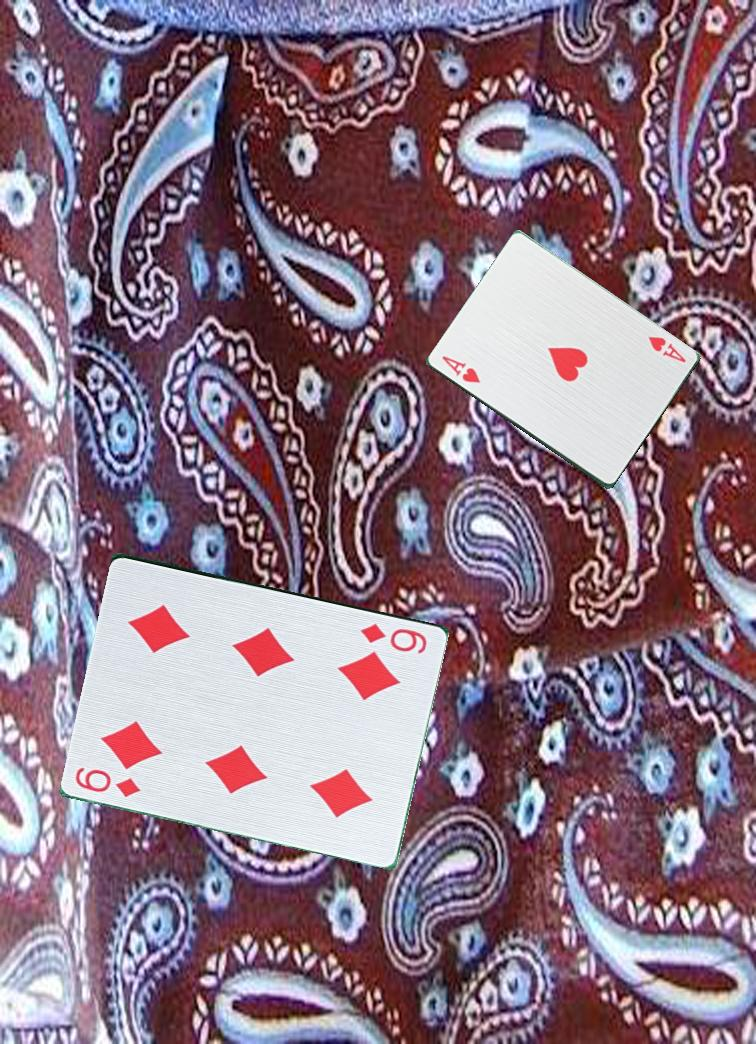6d: (357, 618, 431, 657), (68, 763, 144, 800)
ah: (645, 330, 689, 366), (438, 352, 484, 386)
